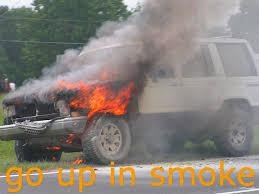fire: (54, 74, 136, 116)
